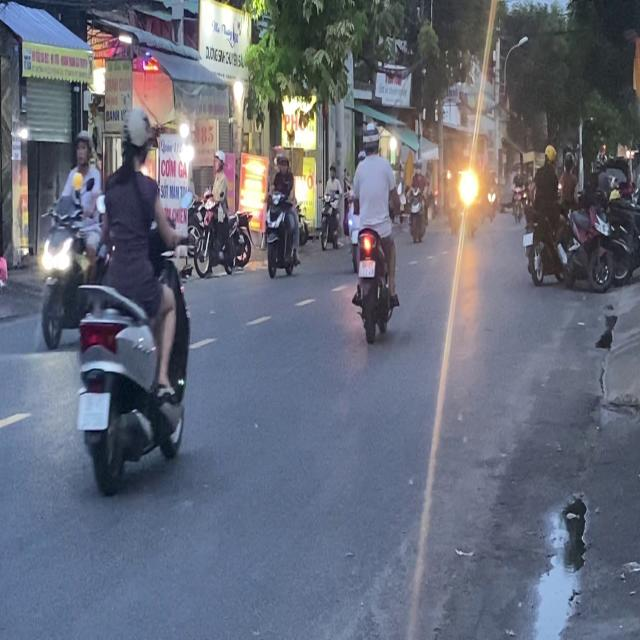helmet: (119, 105, 154, 170), (73, 128, 92, 166), (361, 121, 380, 154)
licenseplate: (72, 100, 193, 497), (347, 120, 400, 342), (262, 146, 300, 278)
nohelmet: (77, 393, 109, 430), (358, 260, 375, 276)
